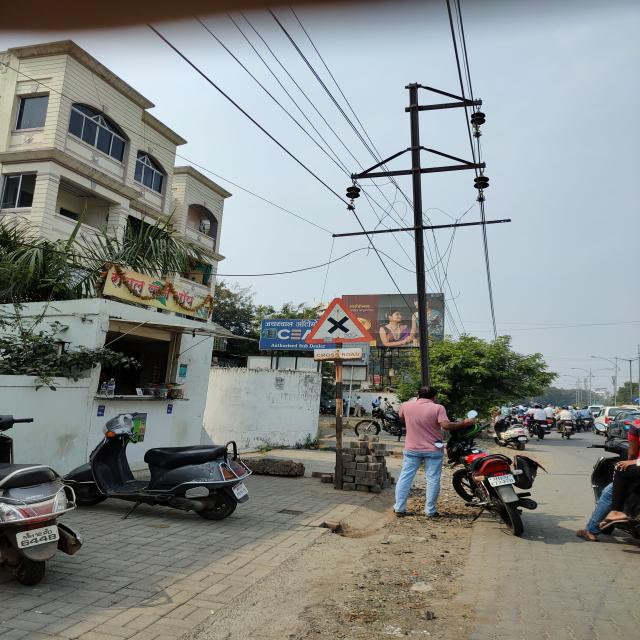CROSS_ROAD: (305, 298, 372, 344)
